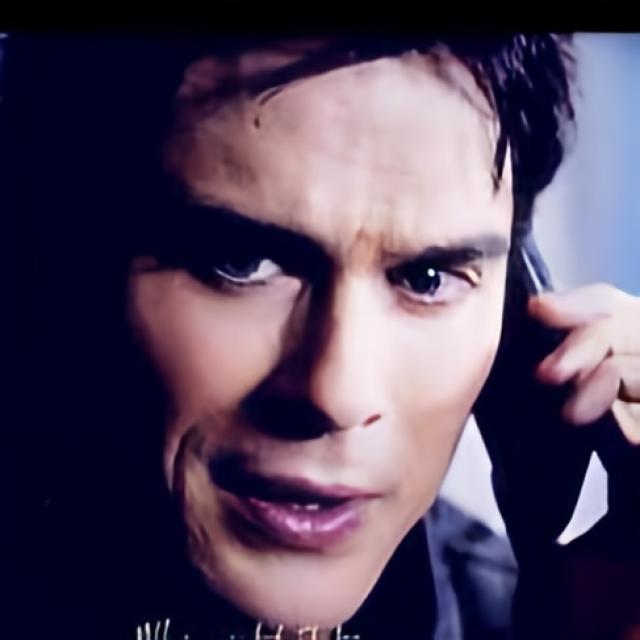content: (126, 16, 514, 640)
